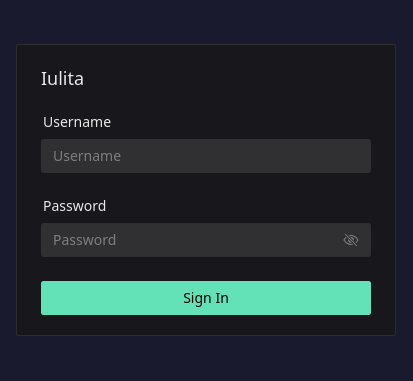
Login.vue › shows error when submitting empty form
Note: Click Sign In button
Click the button "Sign In" at (206, 298), box [41, 281, 371, 315]
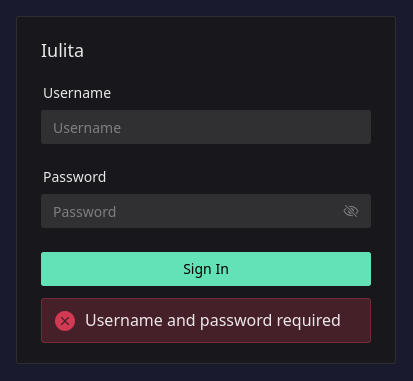
Expected: the text "Username and password required" is shown, [85, 311, 358, 330]
